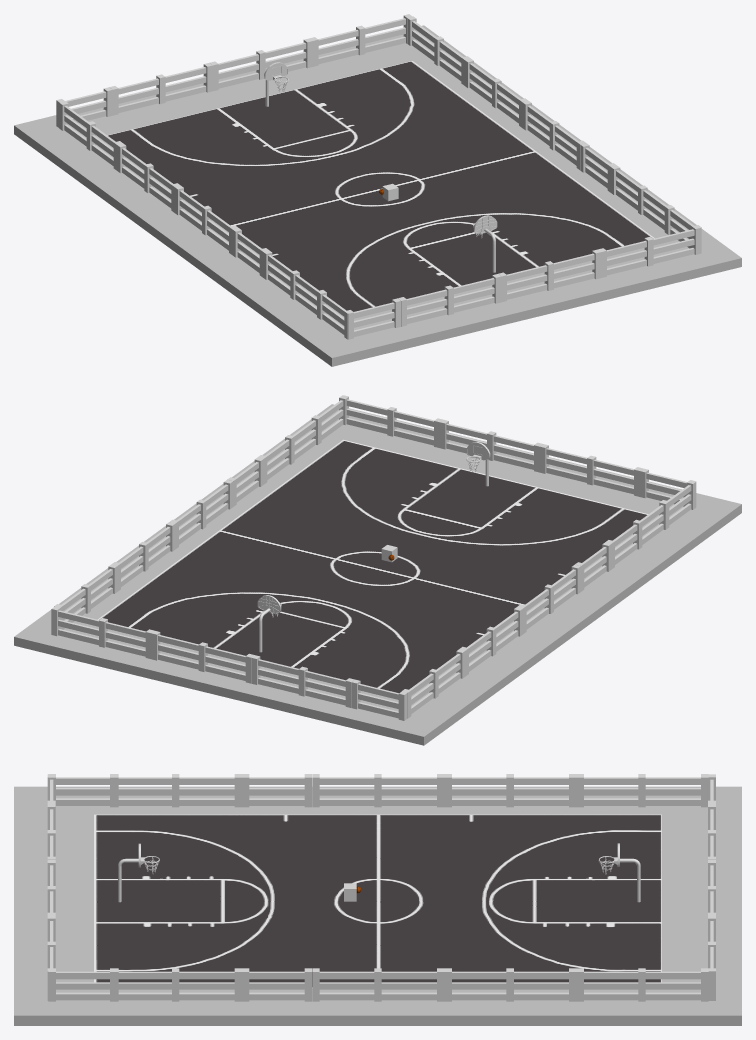
File: COURTTES.FBX
3 renders of one model, top to bottom at view 1: azimuth 30°, elevation 25°; view 2: azimuth 150°, elevation 25°; view 3: azimuth 270°, elevation 25°, orthographic. The views are drawn at different scales.
Parts seen in each view (by area): view 1: Court', Box001, Box040, Box041, Box022, Box045, Box043, Box044, Box057, Box049, Box048, Box055 (+9 smaller); view 2: Court', Box001, Box045, Box041, Box044, Box043, Box022, Box040, Box049, Box053, Box054, Box055 (+10 smaller); view 3: Court', Box001, Box048, Box049, Box047, Box051, Box054, Box055, Box053, Box057, Box050, Box056 (+8 smaller).
Boxes of the visible parts, x1=… form: Court': x1=107, y1=61, x2=654, y2=311; Box001: x1=14, y1=25, x2=741, y2=366; Box040: x1=498, y1=249, x2=601, y2=302; Box041: x1=398, y1=274, x2=501, y2=326; Box022: x1=598, y1=225, x2=701, y2=277; Box045: x1=109, y1=62, x2=212, y2=115; Box043: x1=309, y1=14, x2=412, y2=66; Box044: x1=210, y1=38, x2=312, y2=91; Box057: x1=263, y1=250, x2=326, y2=319; Box049: x1=522, y1=100, x2=585, y2=169; Box048: x1=464, y1=58, x2=527, y2=127; Box055: x1=174, y1=185, x2=238, y2=254; Court': x1=98, y1=439, x2=648, y2=693; Box001: x1=14, y1=404, x2=741, y2=745; Box045: x1=251, y1=655, x2=354, y2=707; Box041: x1=539, y1=444, x2=642, y2=496; Box044: x1=151, y1=631, x2=254, y2=683; Box043: x1=51, y1=606, x2=154, y2=658; Box022: x1=340, y1=395, x2=442, y2=447; Box040: x1=439, y1=419, x2=542, y2=472; Box049: x1=170, y1=479, x2=233, y2=548; Box053: x1=402, y1=649, x2=465, y2=718; Box054: x1=460, y1=607, x2=523, y2=675; Box055: x1=517, y1=564, x2=580, y2=633; Court': x1=94, y1=814, x2=661, y2=987; Box001: x1=14, y1=786, x2=741, y2=1025; Box048: x1=444, y1=968, x2=576, y2=1001; Box049: x1=312, y1=968, x2=444, y2=1001; Box047: x1=576, y1=968, x2=708, y2=1001; Box051: x1=110, y1=968, x2=241, y2=1001; Box054: x1=444, y1=774, x2=576, y2=807; Box055: x1=312, y1=774, x2=444, y2=807; Box053: x1=576, y1=774, x2=708, y2=807; Box057: x1=110, y1=774, x2=241, y2=807; Box050: x1=242, y1=968, x2=311, y2=1001; Box056: x1=242, y1=774, x2=311, y2=807.
Bounding box in the file's own units: 71.44 × 9.96 × 95.94.
